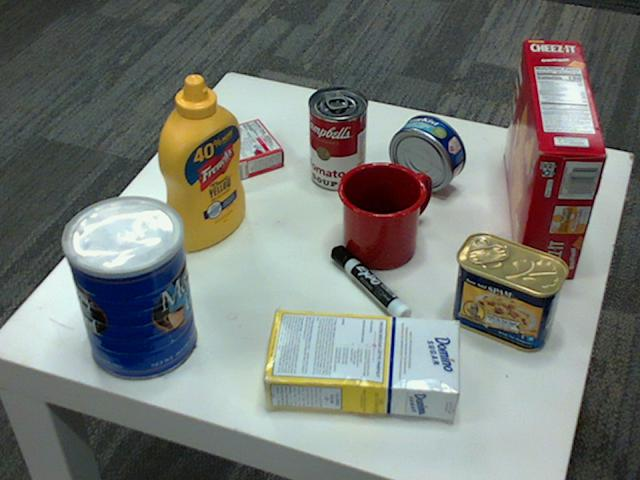cracker_box: (503, 38, 607, 277)
gelatin_box: (193, 115, 284, 183)
large_marker: (331, 246, 411, 327)
master_chef_can: (58, 197, 195, 382)
mug: (335, 160, 427, 267)
mustard_bottle: (156, 74, 245, 250)
potted_meat_can: (450, 232, 567, 351)
sugar_box: (256, 307, 457, 418)
tomato_soup_can: (307, 86, 367, 191)
tuna_fish_can: (388, 114, 464, 191)
